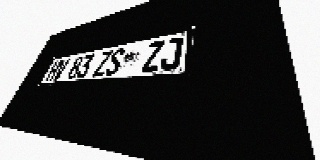3: (75, 54, 95, 78)
8: (66, 56, 85, 79)
H: (45, 60, 62, 81)
J: (159, 36, 183, 71)
S: (104, 48, 126, 76)
V: (52, 58, 70, 81)
Z: (141, 40, 165, 72), (92, 50, 113, 77)
